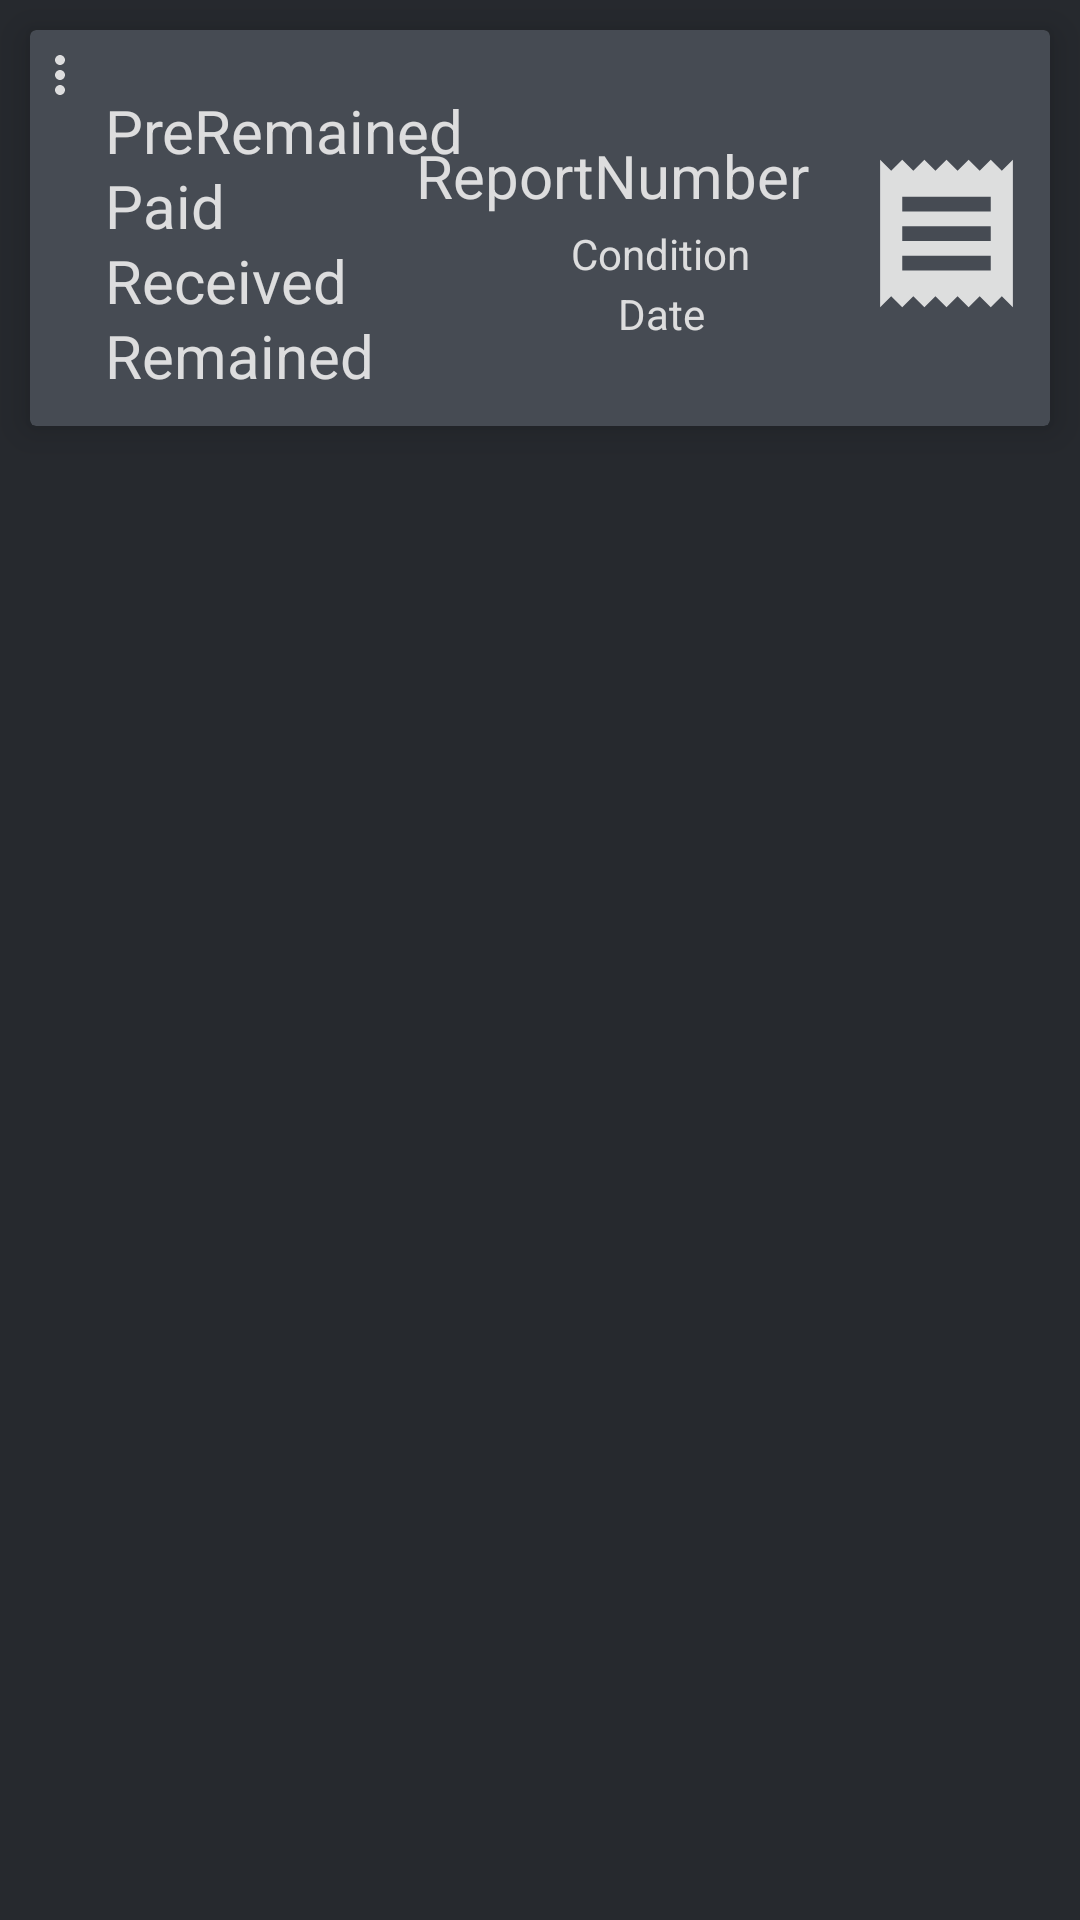

Icons on this 1080*1920 Android screen, each with its box as [left=x1, top=y1, right=x2, bottom=y2]:
more vert: [left=55, top=55, right=65, bottom=95]
reports: [left=880, top=160, right=1013, bottom=307]
